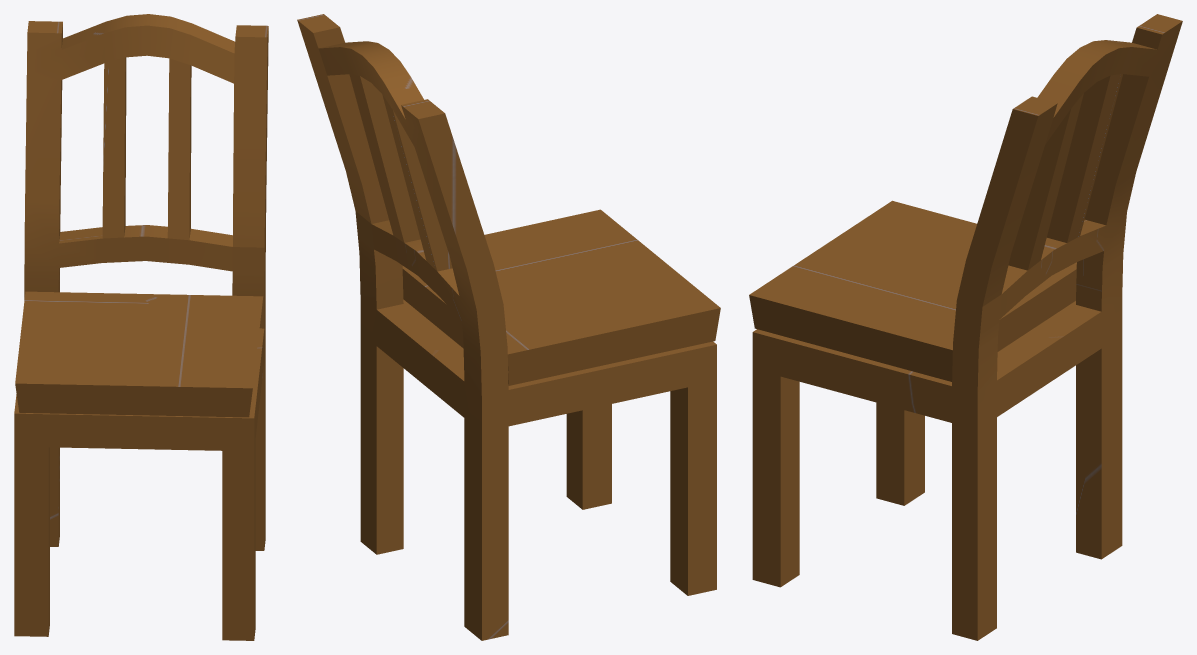
File: Chair.fbx
The picture shows the model from 3 angles, left to right: view 1: azimuth 30°, elevation 25°; view 2: azimuth 150°, elevation 25°; view 3: azimuth 270°, elevation 25°; orthographic projection. The views are drawn at different scales.
Visible parts, largest first — view 1: chair_low; view 2: chair_low; view 3: chair_low.
Boxes of the visible parts, bbox=[...] form: chair_low: bbox=[14, 14, 268, 640]; chair_low: bbox=[297, 14, 720, 640]; chair_low: bbox=[749, 14, 1182, 640].
Size of the model in its own units: 9.54 by 14.22 by 10.09.
